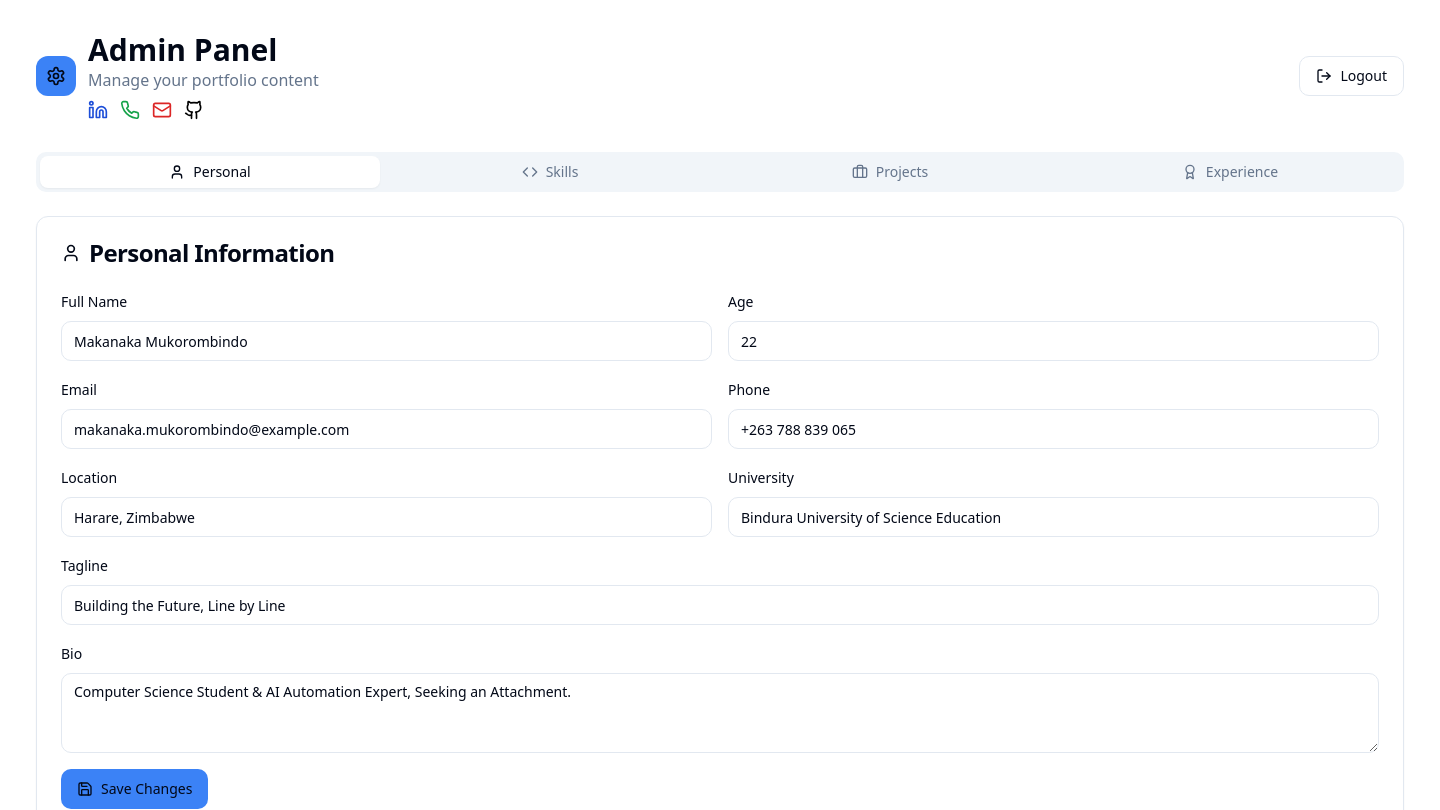
Test: AdminPanel Component › allows editing personal information
Step 1. Replace the text in the field labelled "Full Name" with "New Name" → (386, 341), box [61, 321, 712, 361]
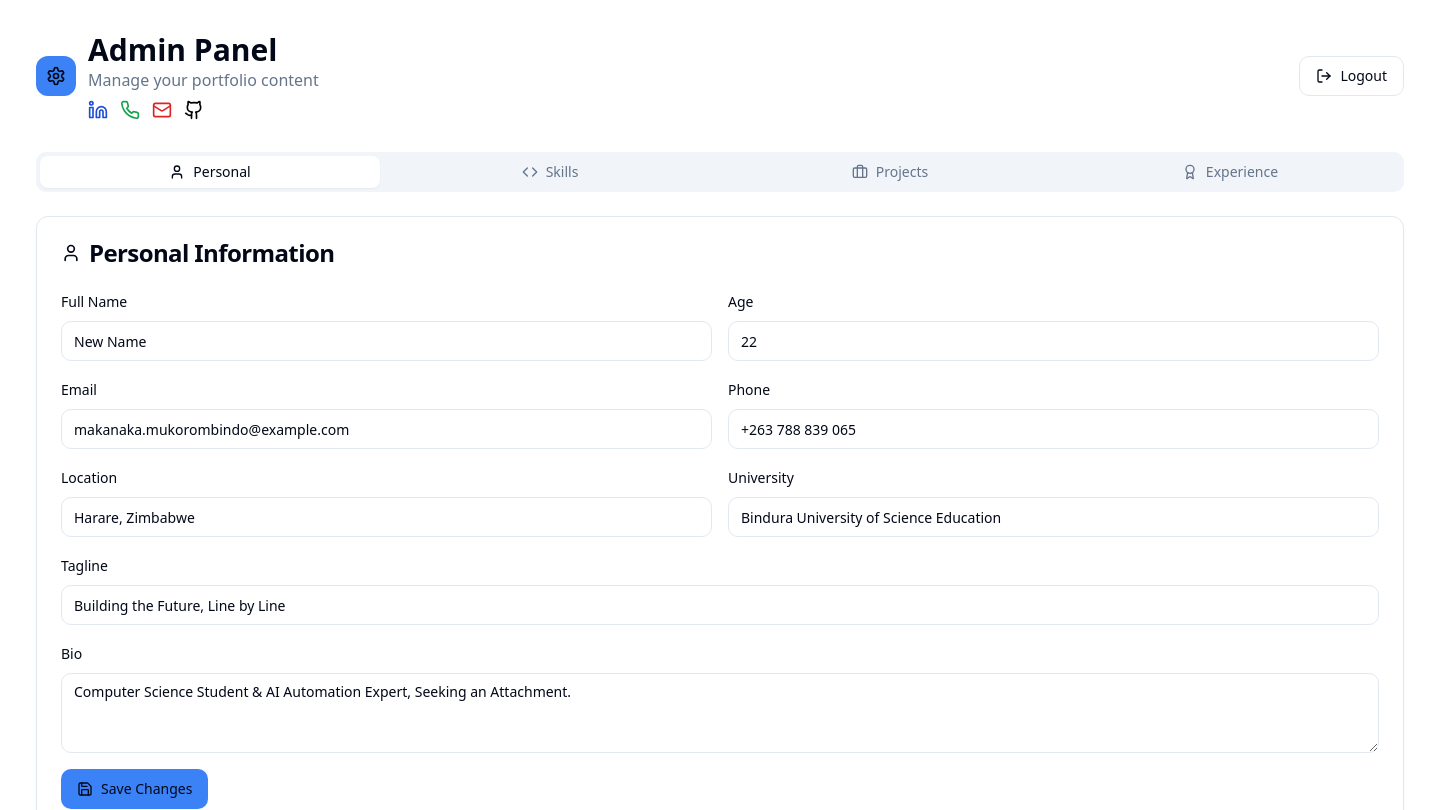
Step 2. Replace the text in the field labelled "Email" with "new@email.com" → (386, 429), box [61, 409, 712, 449]
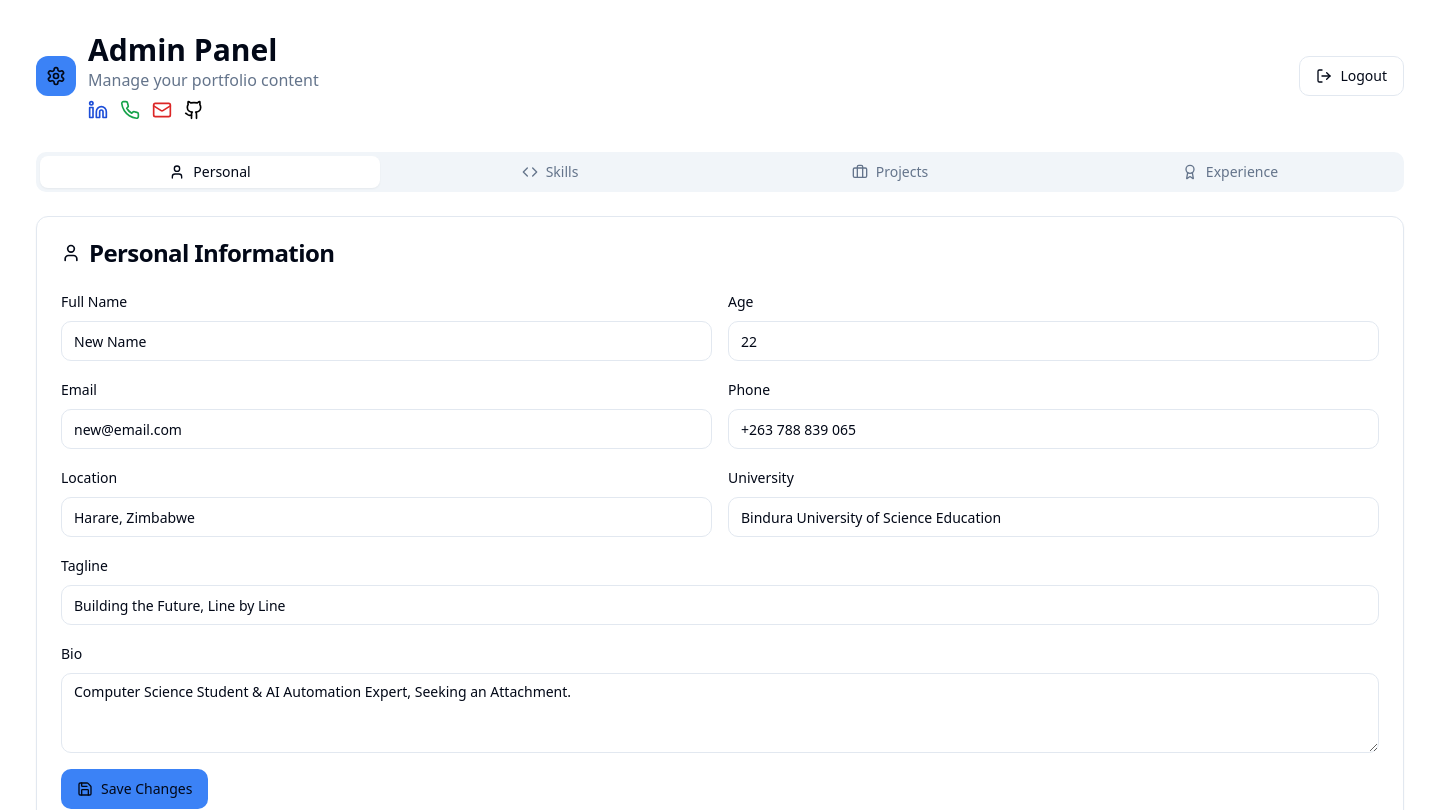
Step 3. Click the button "Save Changes" → (135, 789), box [61, 769, 208, 809]
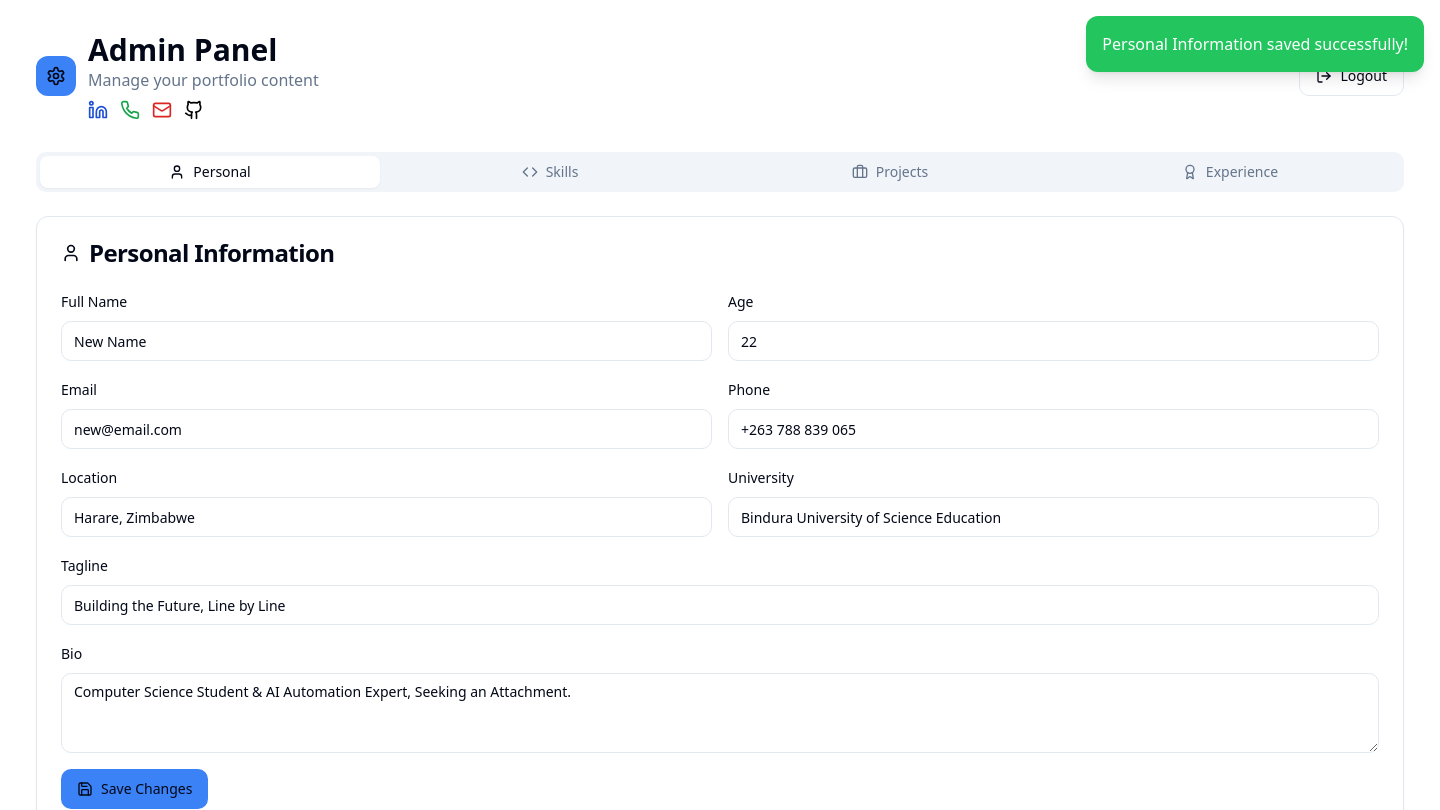
Expected: the text "Personal Information saved successfully!" is shown, [1086, 16, 1424, 72]
